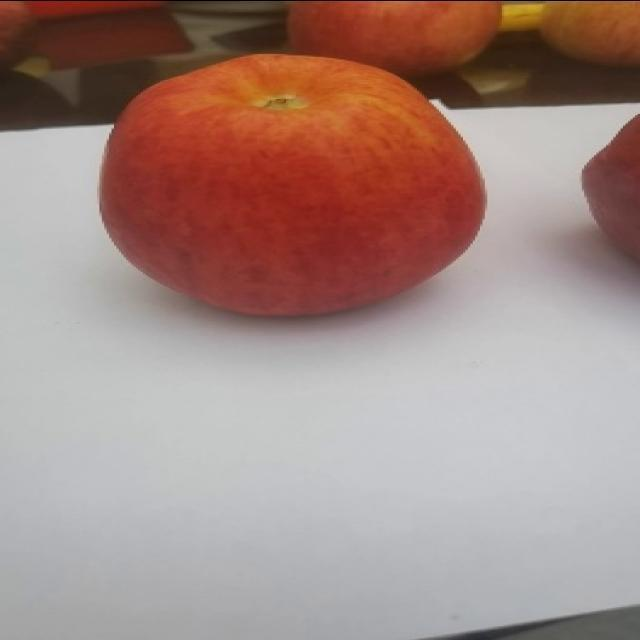Apple: (97, 51, 487, 318), (285, 0, 503, 78), (580, 112, 639, 264), (538, 0, 639, 68)
